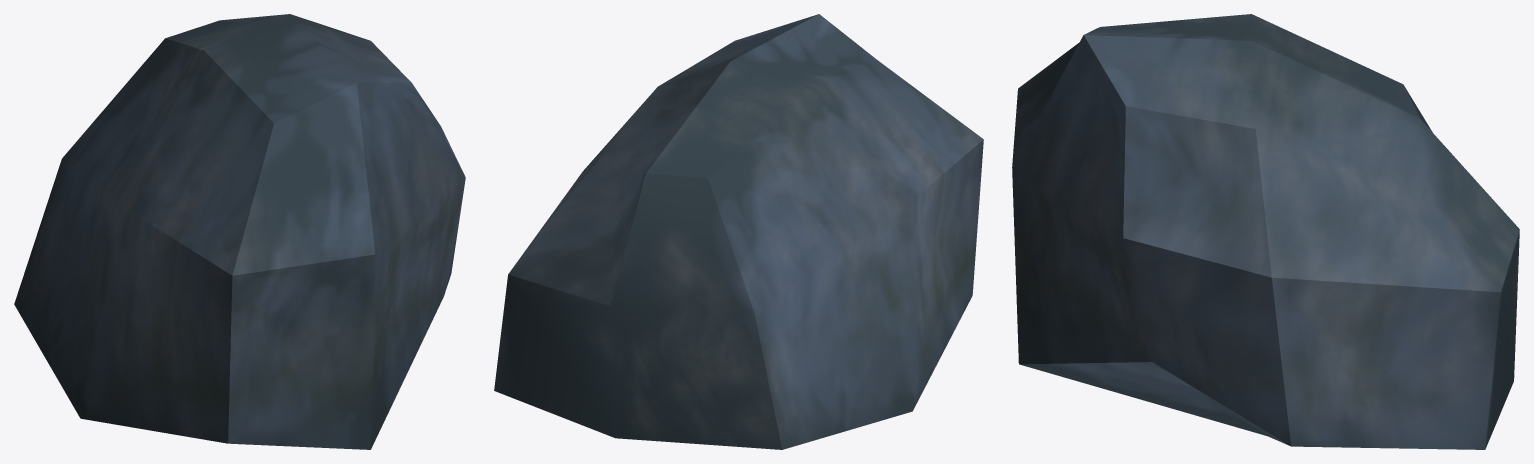
Rendered from piedra01.glb.
The picture shows the model from 3 angles, left to right: view 1: azimuth 30°, elevation 25°; view 2: azimuth 150°, elevation 25°; view 3: azimuth 270°, elevation 25°; orthographic projection. The views are drawn at different scales.
Visible parts, largest first — view 1: piedra_01-col; view 2: piedra_01-col; view 3: piedra_01-col.
Part boxes in pixels (x1,y1,x2,y2): piedra_01-col: (14, 14, 465, 449); piedra_01-col: (494, 14, 983, 449); piedra_01-col: (1012, 14, 1519, 449).
Size of the model in its own units: 2.01 by 1.99 by 2.26.
1 material, 1 textured.
